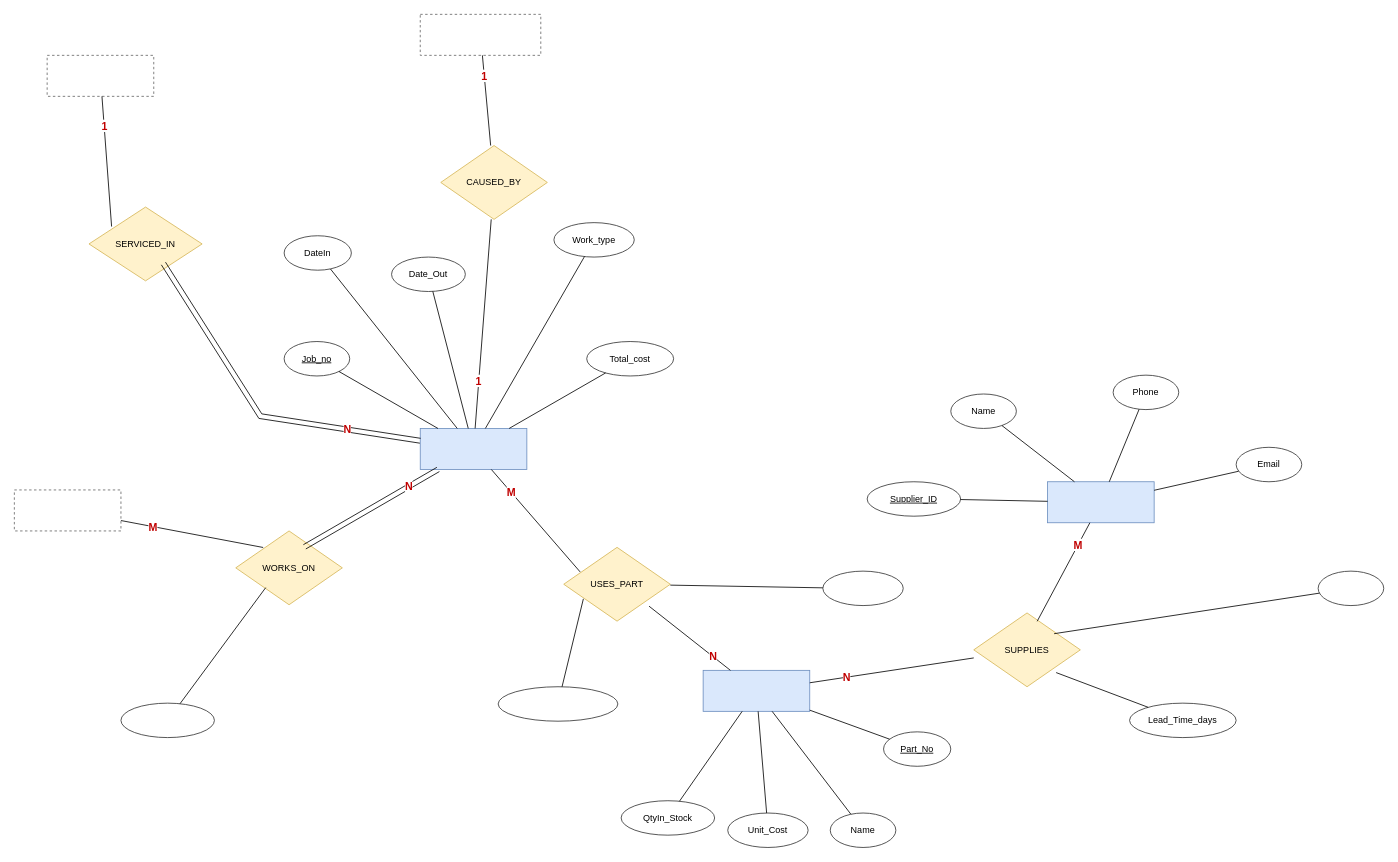
The diagram is 1398 pixels wide and 862 high, and some of its shapes have lost their labels. Each missing label, with the centre of its shape:
DAMAGE_REPORT: (480,34)
Hours_spent: (167,720)
JOB_CARD: (473,448)
MECHANIC: (67,510)
PART: (756,690)
Price: (1350,588)
Quantity: (862,588)
SUPPLIER: (1100,502)
Unit_Cost_At_Time: (557,703)
VEHICLE: (100,75)
